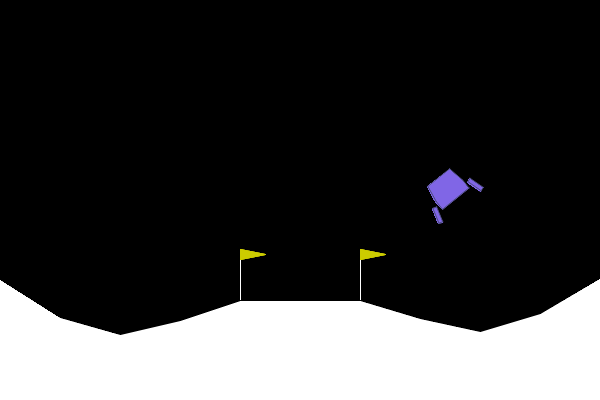lander: (414, 157, 485, 226)
